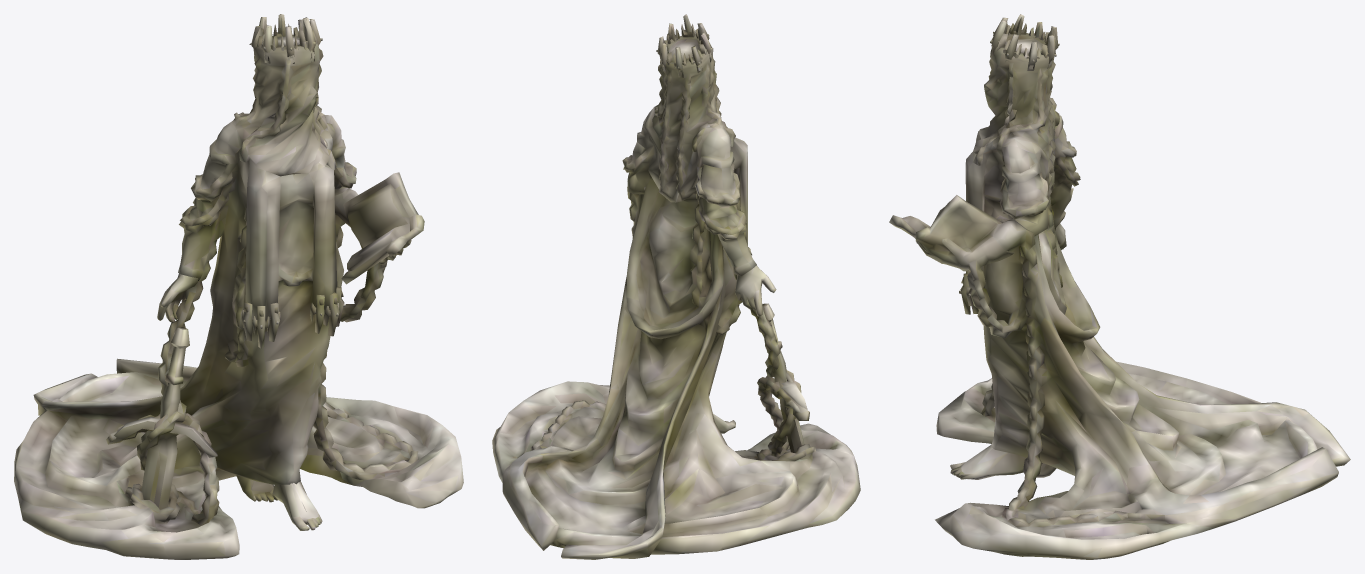
Rendered from gothic-statue.glb.
3 views of the same model, side by side, from view 1: azimuth 30°, elevation 25°; view 2: azimuth 150°, elevation 25°; view 3: azimuth 270°, elevation 25° (orthographic). The views are drawn at different scales.
Parts seen in each view (by area): view 1: low; view 2: low; view 3: low.
Boxes of the visible parts, x1=… form: low: x1=14, y1=14, x2=463, y2=559; low: x1=492, y1=14, x2=860, y2=559; low: x1=889, y1=14, x2=1350, y2=559.
Size of the model in its own units: 1.61 by 1.9 by 1.71.
Materials: 1 (1 with a texture image).
